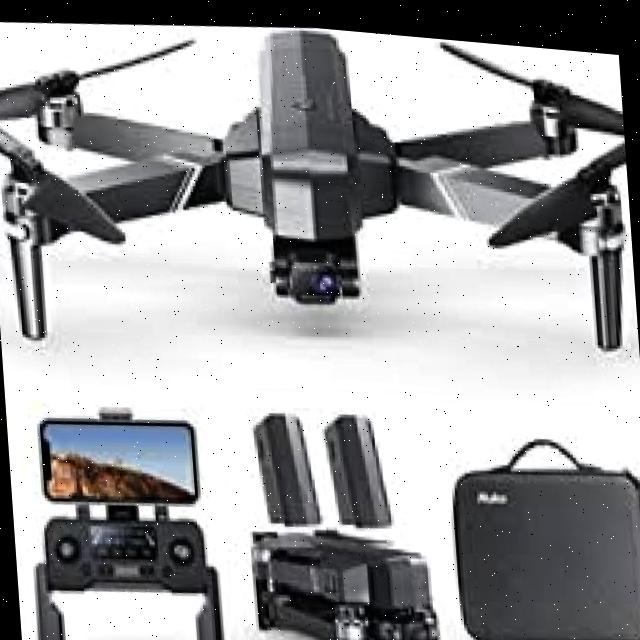drone: (0, 0, 640, 415)
